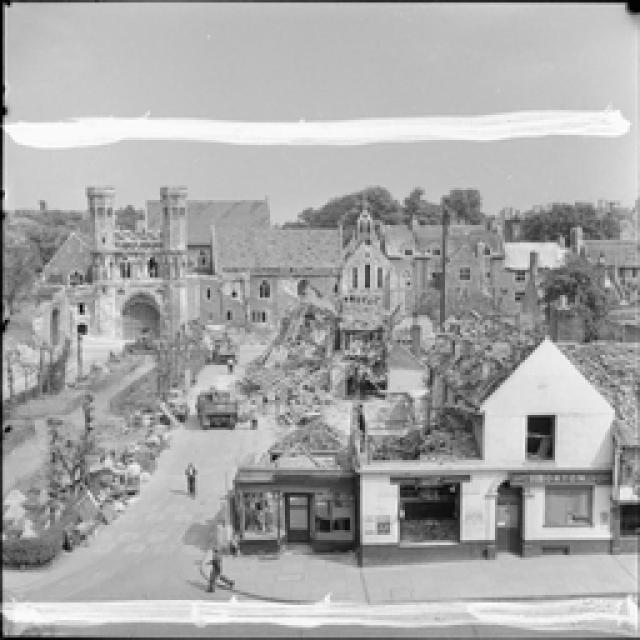Abbey: (349, 331, 639, 566)
